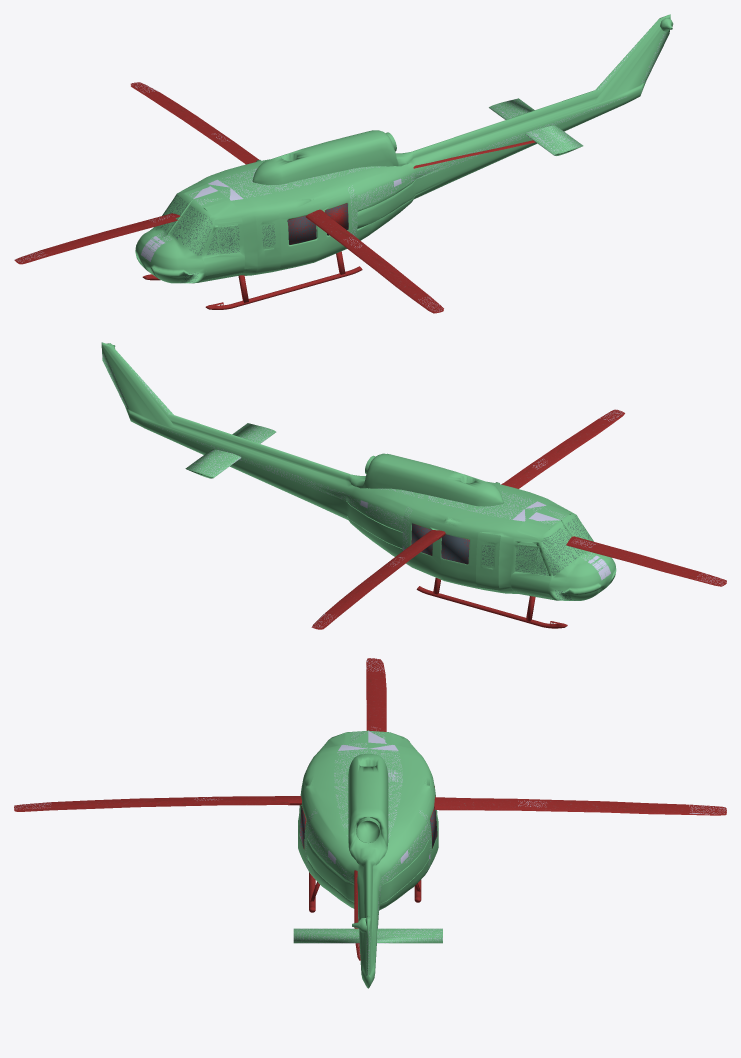
Rendered from Copter.fbx.
3 views of the same model, one above another, from view 1: azimuth 30°, elevation 25°; view 2: azimuth 150°, elevation 25°; view 3: azimuth 270°, elevation 25° (orthographic). The views are drawn at different scales.
Parts seen in each view (by area): view 1: Copter, RotorMain; view 2: Copter, RotorMain; view 3: Copter, RotorMain.
Boxes of the visible parts, x1,y1,x2,y2 form: Copter: (135,14,673,309); RotorMain: (14,82,535,313); Copter: (101,342,616,628); RotorMain: (311,409,726,629); Copter: (293,730,442,988); RotorMain: (14,658,726,960).
Bounding box in the file's own units: 173 × 37.26 × 129.
